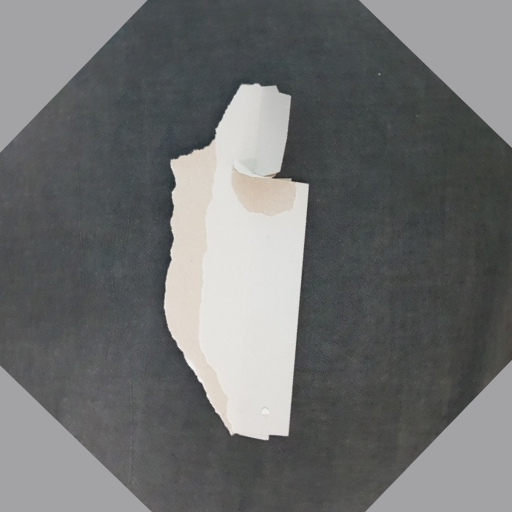Paper_3: (155, 78, 315, 442)
